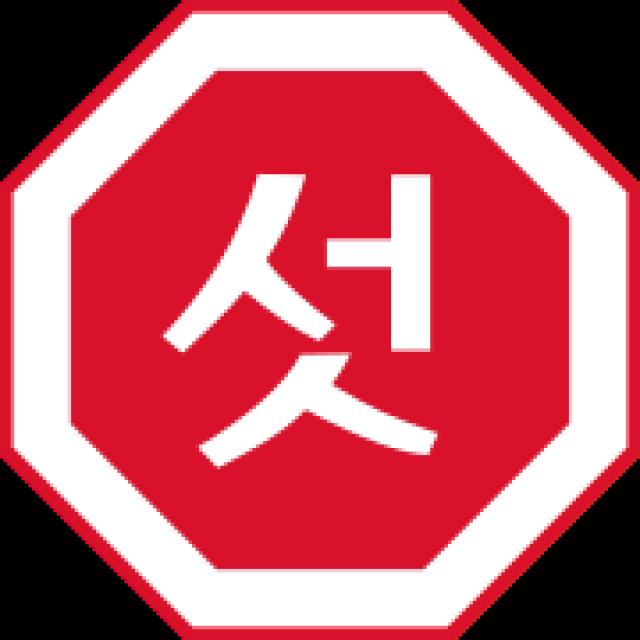Traffic sign: (23, 59, 640, 629)
